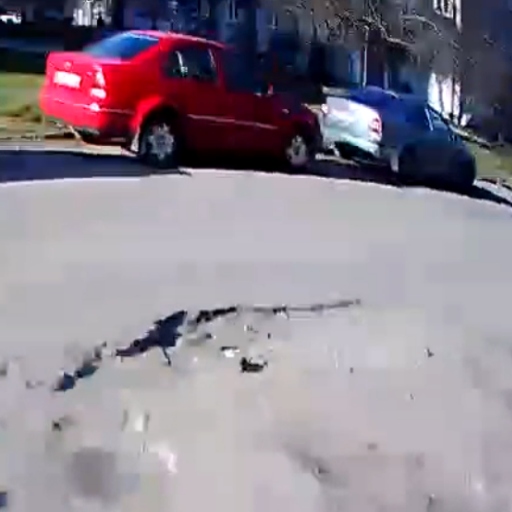Car: (35, 28, 320, 168), (319, 84, 479, 189)
